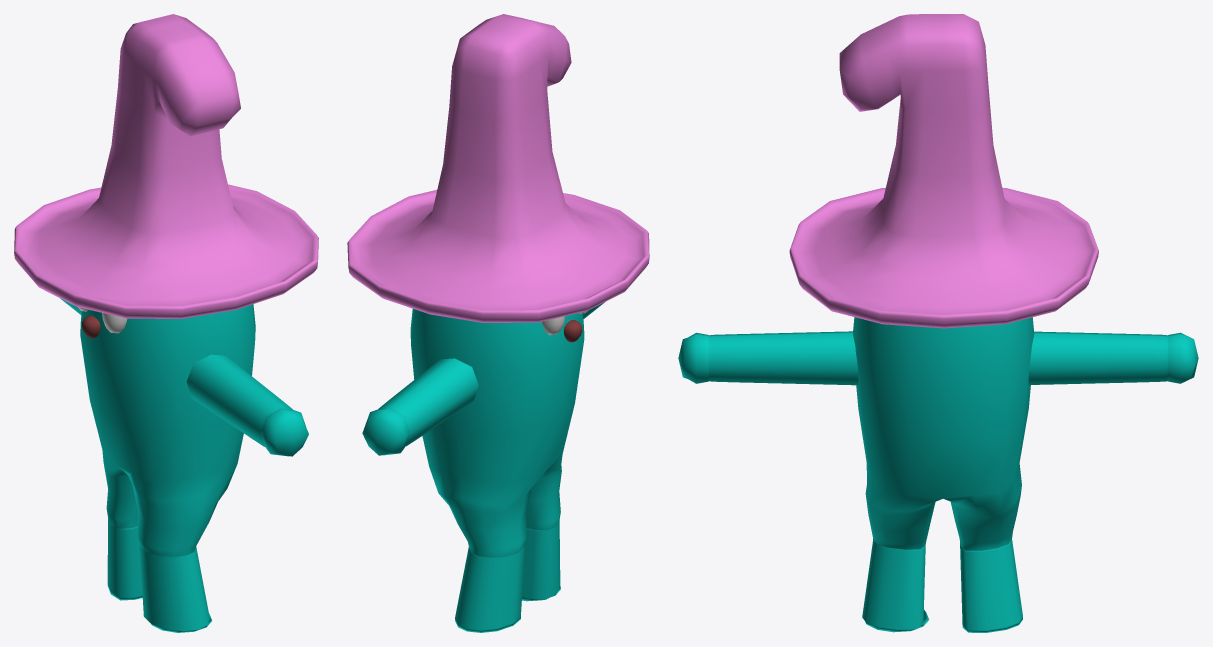
File: numero 1.fbx
3 views of the same model, side by side, from view 1: azimuth 30°, elevation 25°; view 2: azimuth 150°, elevation 25°; view 3: azimuth 270°, elevation 25° (orthographic). The views are drawn at different scales.
Parts seen in each view (by area): view 1: Gorro_Geo1; view 2: Gorro_Geo1; view 3: Gorro_Geo1.
Boxes of the visible parts, x1,y1,x2,y2 form: Gorro_Geo1: (14, 14, 318, 632); Gorro_Geo1: (347, 14, 649, 632); Gorro_Geo1: (678, 14, 1198, 632).
Size of the model in its own units: 63.18 by 133 by 105.
